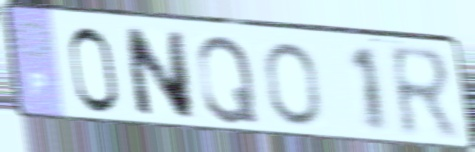0: (66, 24, 122, 116)
1: (348, 44, 390, 136)
N: (120, 25, 198, 123)
O: (261, 39, 325, 130)
Q: (194, 33, 262, 126)
R: (385, 42, 463, 144)
